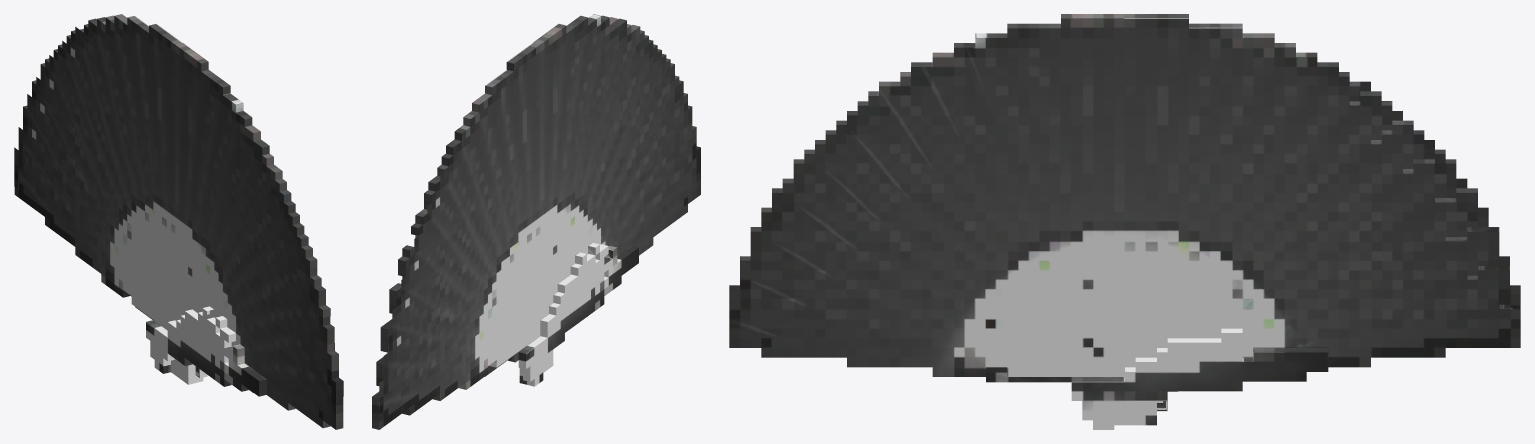
Rendered from voxel_tessen.obj.
The picture shows the model from 3 angles, left to right: view 1: azimuth 30°, elevation 25°; view 2: azimuth 150°, elevation 25°; view 3: azimuth 270°, elevation 25°; orthographic projection. The views are drawn at different scales.
Visible parts, largest first — view 1: tessen_3x42x74; view 2: tessen_3x42x74; view 3: tessen_3x42x74.
Boxes of the visible parts, x1,y1,x2,y2 form: tessen_3x42x74: [14, 14, 343, 429]; tessen_3x42x74: [372, 14, 700, 429]; tessen_3x42x74: [729, 14, 1520, 429].
Size of the model in its own units: 0.0902 by 1.27 by 2.23.
